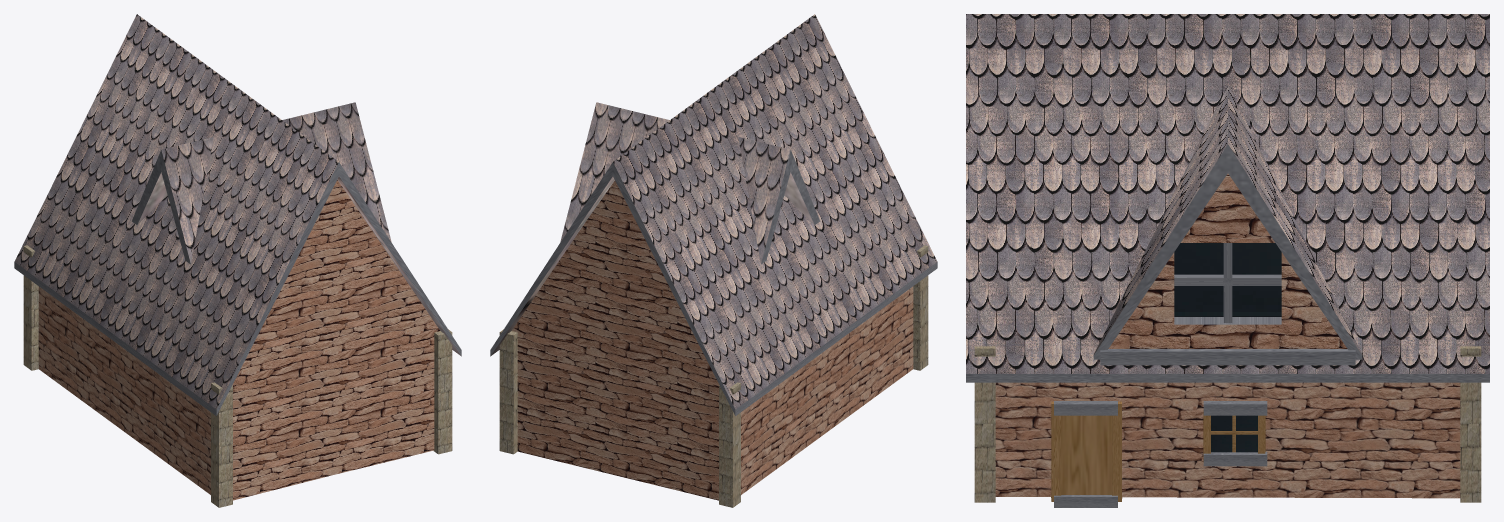
Rendered from map1_ie.obj.
3 renders of one model, left to right at view 1: azimuth 30°, elevation 25°; view 2: azimuth 150°, elevation 25°; view 3: azimuth 270°, elevation 25°, orthographic. The views are drawn at different scales.
Visible parts, largest first — view 1: house pCube6, pCube1 house, house pCube7, house pCube3, house pCube2, house pCube4; view 2: house pCube6, pCube1 house, house pCube7, house pCube4, house pCube5, house pCube3; view 3: house pCube6, pCube1 house, house pPlane1, house pCube7, house pCube8, house pCube12, house pCube2, house pCube5, house pCube9, house pPlane2, house pCube15, house pCube10 (+4 smaller).
Part boxes in pixels (left/top/right/bottom): house pCube6: left=14, top=14, right=461, bottom=415; pCube1 house: left=38, top=180, right=439, bottom=500; house pCube7: left=132, top=102, right=391, bottom=264; house pCube3: left=211, top=382, right=232, bottom=507; house pCube2: left=433, top=329, right=452, bottom=454; house pCube4: left=23, top=245, right=38, bottom=370; house pCube6: left=490, top=14, right=937, bottom=415; pCube1 house: left=512, top=181, right=913, bottom=500; house pCube7: left=560, top=102, right=819, bottom=264; house pCube4: left=719, top=382, right=740, bottom=507; house pCube5: left=499, top=329, right=517, bottom=454; house pCube3: left=913, top=245, right=928, bottom=370; house pCube6: left=966, top=14, right=1489, bottom=382; pCube1 house: left=995, top=382, right=1460, bottom=498; house pPlane1: left=1108, top=173, right=1347, bottom=348; house pCube7: left=1093, top=85, right=1362, bottom=359; house pCube8: left=1100, top=349, right=1355, bottom=365; house pCube12: left=1061, top=415, right=1111, bottom=494; house pCube2: left=974, top=346, right=995, bottom=502; house pCube5: left=1460, top=346, right=1481, bottom=502; house pCube9: left=1174, top=243, right=1281, bottom=322; house pPlane2: left=1211, top=415, right=1257, bottom=452; house pCube15: left=1203, top=401, right=1267, bottom=415; house pCube10: left=1054, top=401, right=1117, bottom=415.
Bounding box in the file's own units: 8.13 × 10.3 × 11.61.
Materials: 7 (6 with a texture image).
